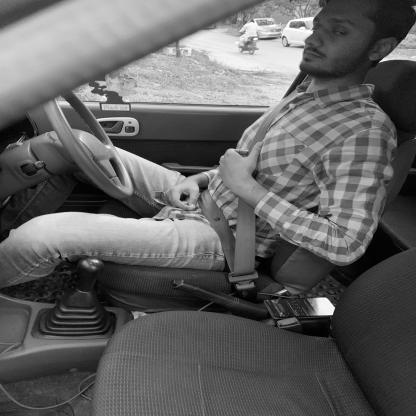seatbelt: (233, 3, 380, 213)
